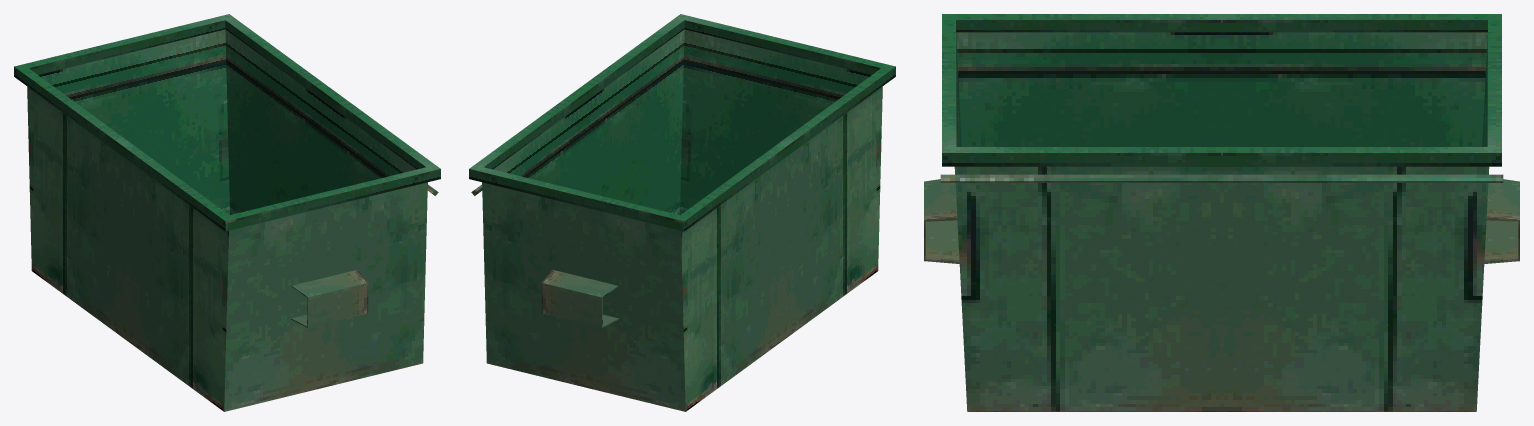
Rendered from dumpster_empty_no_lid.glb.
The picture shows the model from 3 angles, left to right: view 1: azimuth 30°, elevation 25°; view 2: azimuth 150°, elevation 25°; view 3: azimuth 270°, elevation 25°; orthographic projection. The views are drawn at different scales.
Parts seen in each view (by area): view 1: dumpster_empty_no_lid; view 2: dumpster_empty_no_lid; view 3: dumpster_empty_no_lid.
Part boxes in pixels (x1,y1,x2,y2): dumpster_empty_no_lid: (14, 14, 440, 411); dumpster_empty_no_lid: (469, 14, 895, 411); dumpster_empty_no_lid: (924, 14, 1519, 411).
Size of the model in its own units: 2.03 by 1.8 by 3.67.
Materials: 1 (1 with a texture image).
